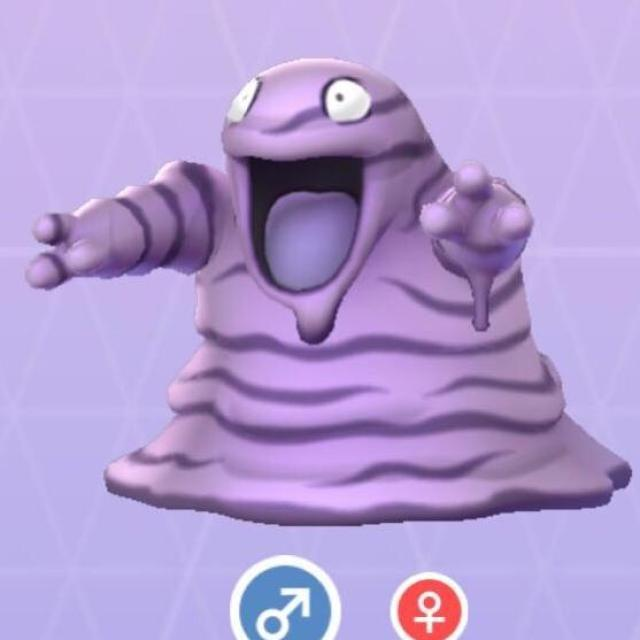Grimer: (139, 59, 536, 522)
